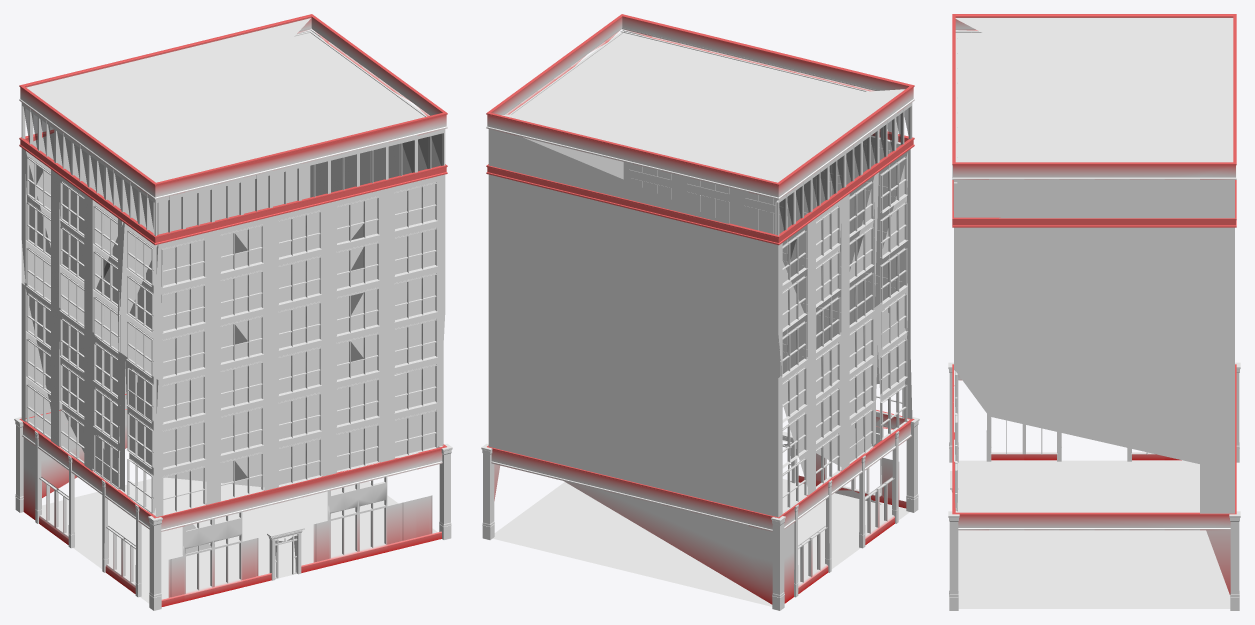
File: building-large.glb
3 views of the same model, side by side, from view 1: azimuth 30°, elevation 25°; view 2: azimuth 150°, elevation 25°; view 3: azimuth 270°, elevation 25° (orthographic). The views are drawn at different scales.
Parts seen in each view (by area): view 1: Building_Large_2; view 2: Building_Large_2; view 3: Building_Large_2.
Boxes of the visible parts, x1,y1,x2,y2 form: Building_Large_2: [14, 14, 452, 610]; Building_Large_2: [481, 14, 919, 610]; Building_Large_2: [948, 14, 1240, 610].
Bounding box in the file's own units: 20.64 × 28 × 16.64.
